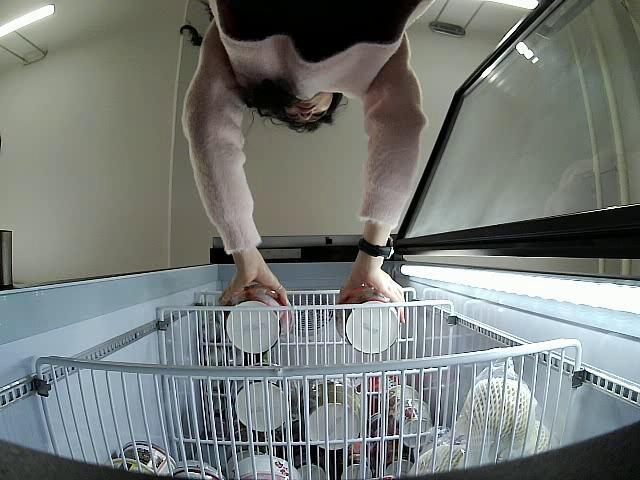01_ShinRamen_L: (224, 286, 286, 354), (342, 295, 402, 354)
